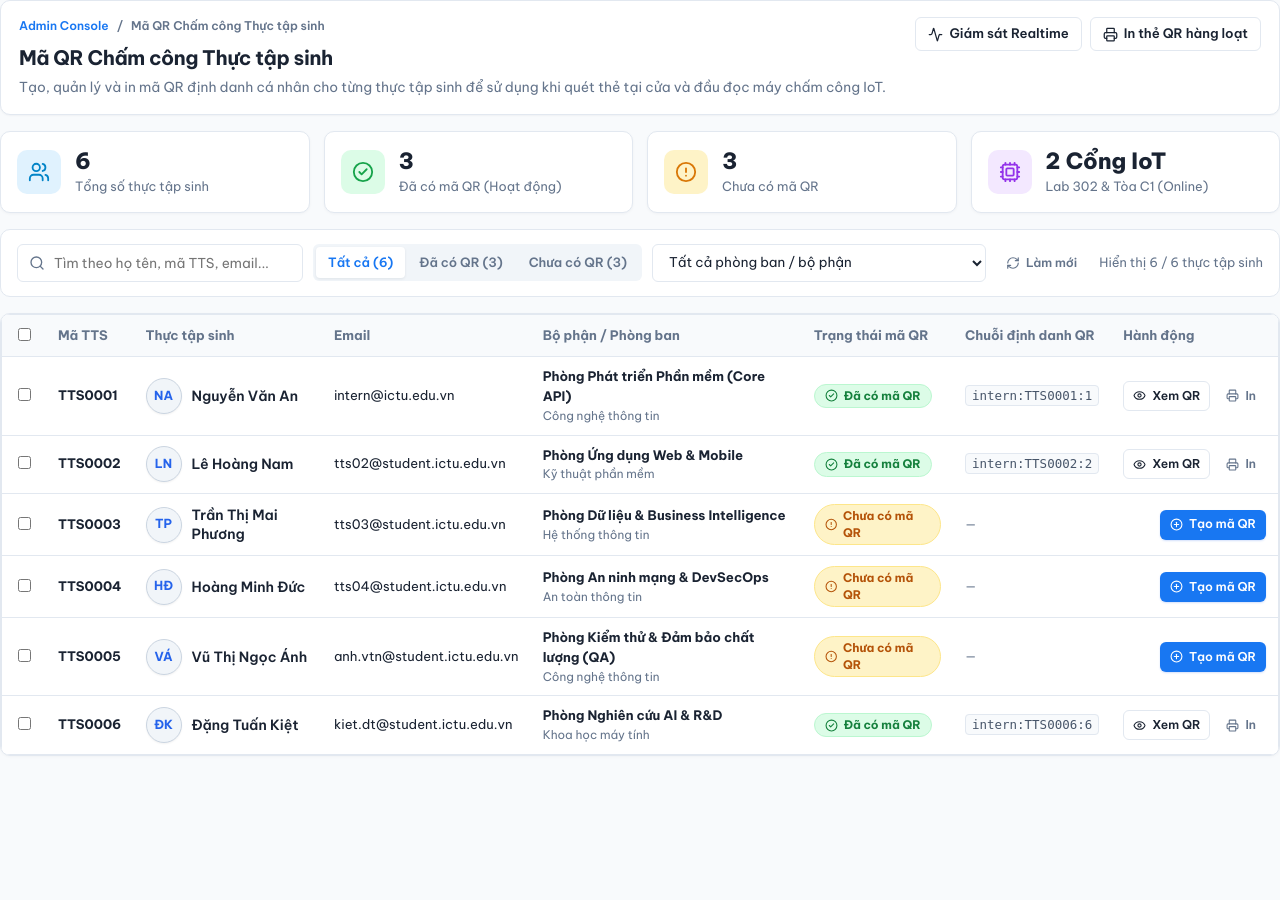
Scenario: AdminInternQrPage - Giao diện Quản lý Mã QR Chấm công Thực tập sinh › 5. Lọc danh sách theo trạng thái mã QR (Tất cả, Đã có QR, Chưa có QR)
This screenshot has width=1280, height=900.
Expected: the text "TTS0001" is shown, [58,387,118,403]
// Click nút pill "Chưa có QR"
Click the tab "Chưa có QR (3)" at (578, 263), box [517,247,639,278]
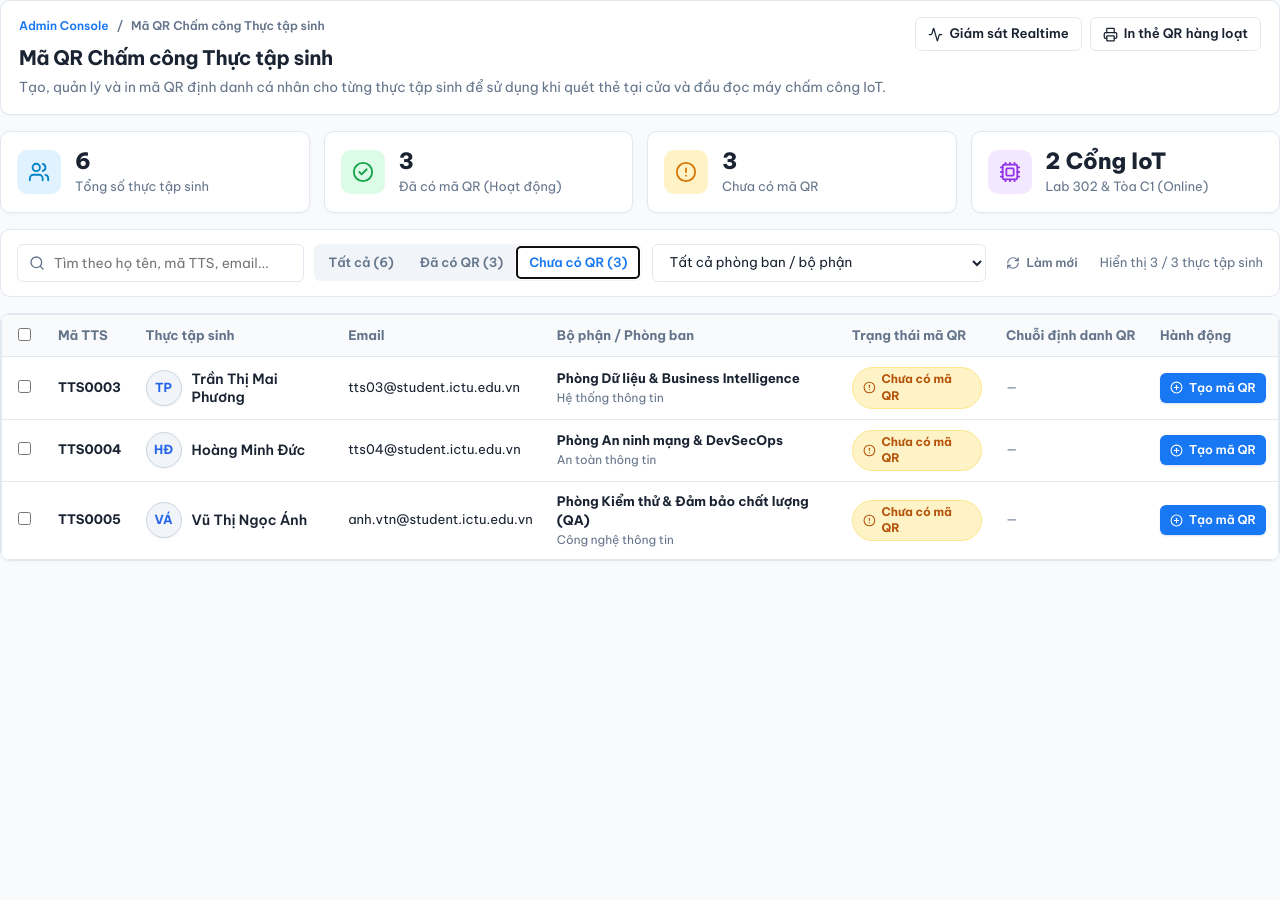
Expected: the text "TTS0003" is shown, [58,379,121,395]
Expected: the text "TTS0001" is gone
Expected: the text "TTS0002" is gone
// Click nút pill "Đã có QR"
Click the tab "Đã có QR (3)" at (462, 263), box [408,247,515,278]
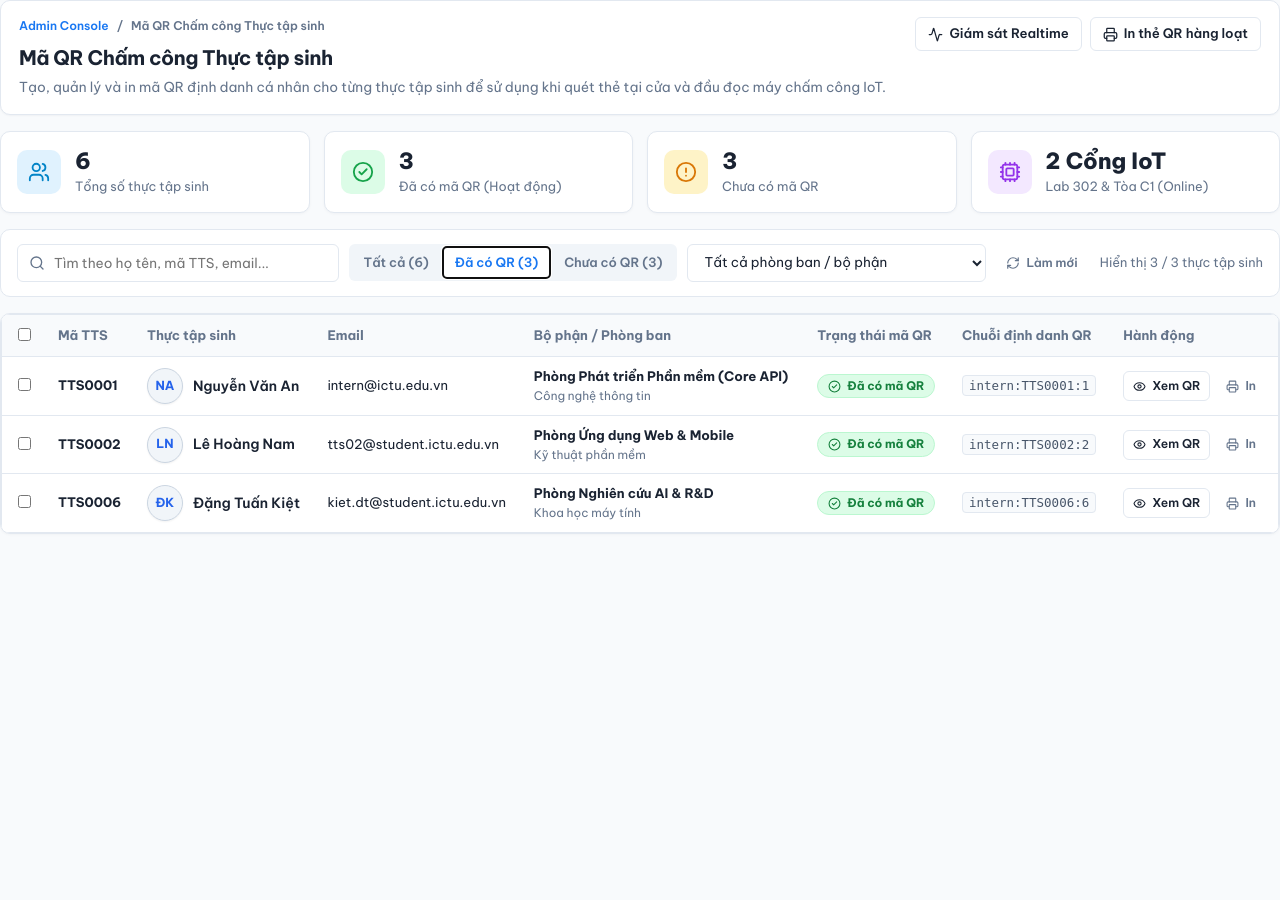
Expected: the text "TTS0001" is shown, [58,377,118,393]
Expected: the text "TTS0002" is shown, [58,436,121,452]
Expected: the text "TTS0003" is gone
